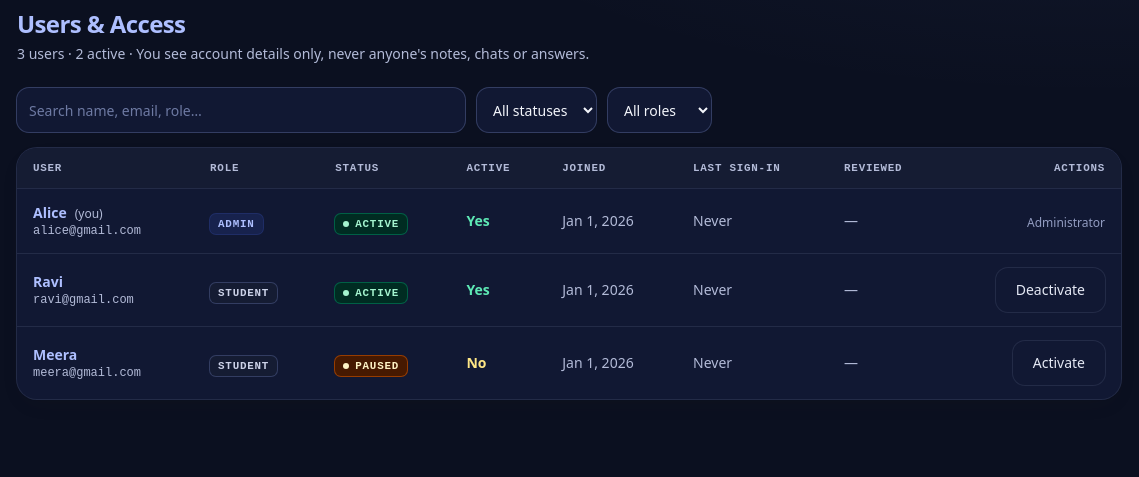
it: Users & Access screen › a failed save shows a calm message and keeps the row as it was
Check: the table named "Accounts" is shown, box [17, 148, 1121, 399]
Click the button with aria-label "Activate Meera".
click(1059, 363)  # box [1013, 341, 1105, 385]
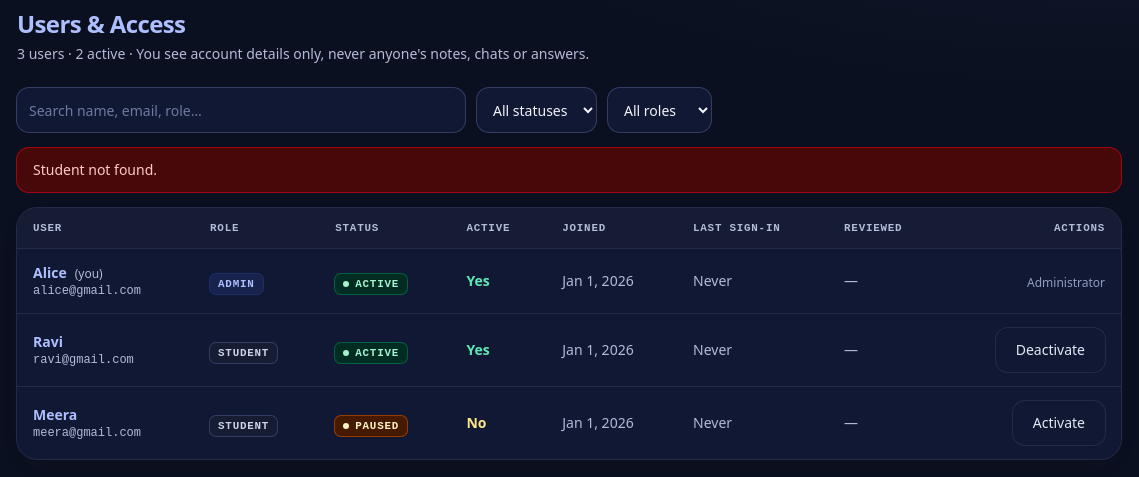
Check: the text "Paused" is shown, box [335, 416, 407, 436]
Check: the message shows "not found", box [33, 160, 157, 179]
